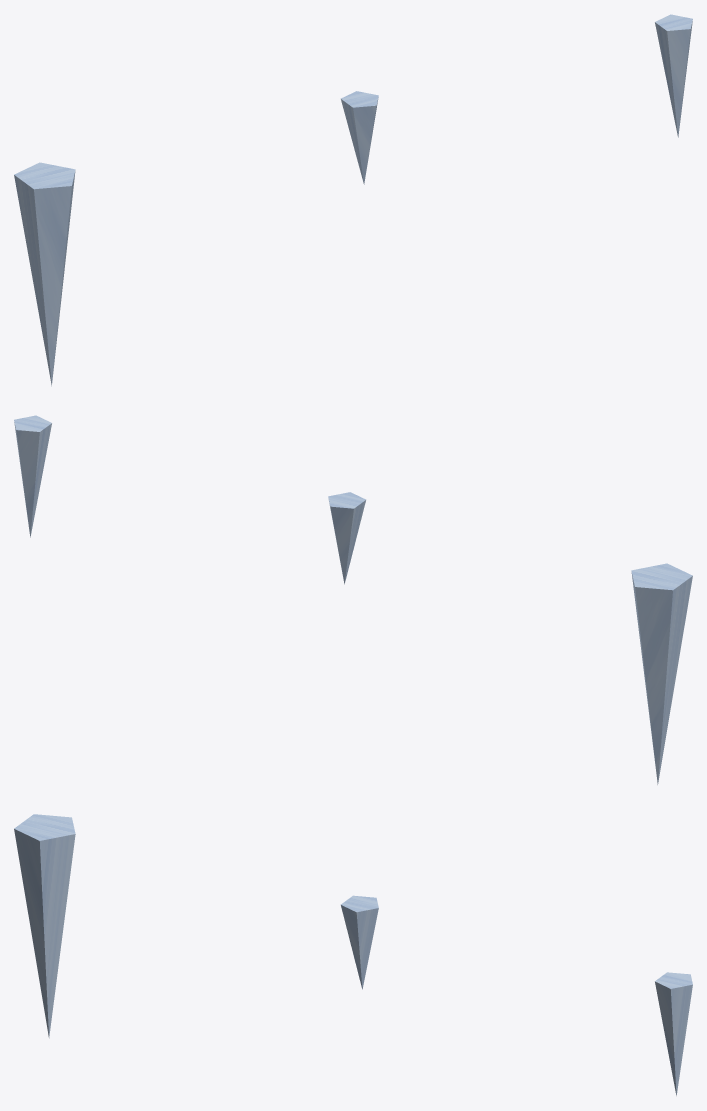
Rendered from icicle_cluster_sparse.glb.
3 views of the same model, one above another, from view 1: azimuth 30°, elevation 25°; view 2: azimuth 150°, elevation 25°; view 3: azimuth 330°, elevation 25° (orthographic).
Parts seen in each view (by area): view 1: winter_icicle_cluster_sparse; view 2: winter_icicle_cluster_sparse; view 3: winter_icicle_cluster_sparse.
Part boxes in pixels (box(x1,y1,x2,y2)): winter_icicle_cluster_sparse: box(14, 14, 692, 386); winter_icicle_cluster_sparse: box(14, 415, 692, 784); winter_icicle_cluster_sparse: box(14, 814, 692, 1095).
Size of the model in its own units: 1.2 by 0.36 by 0.1.
1 material, 1 textured.
